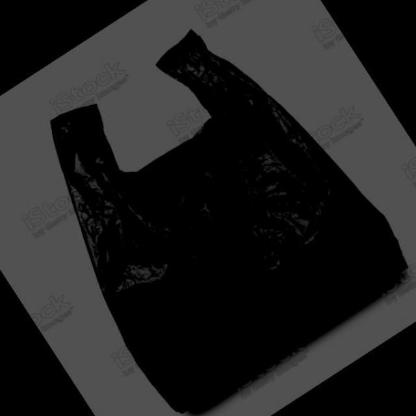Plastic Bag: (49, 30, 407, 416)
